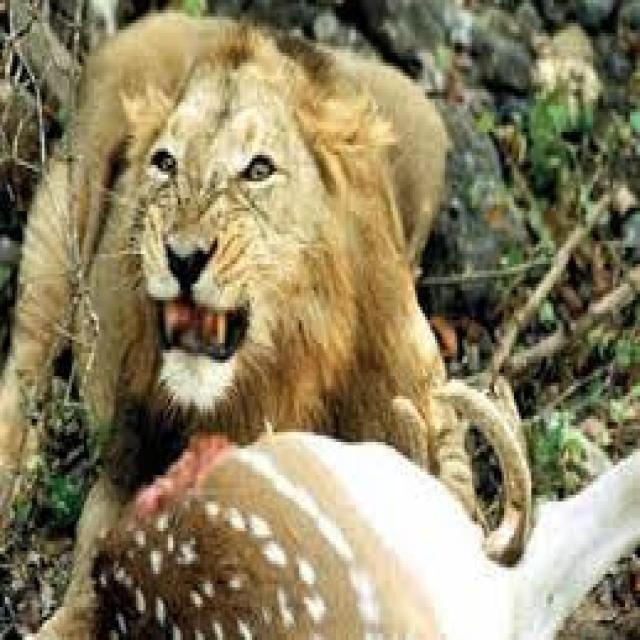Lion: (0, 10, 472, 518)
